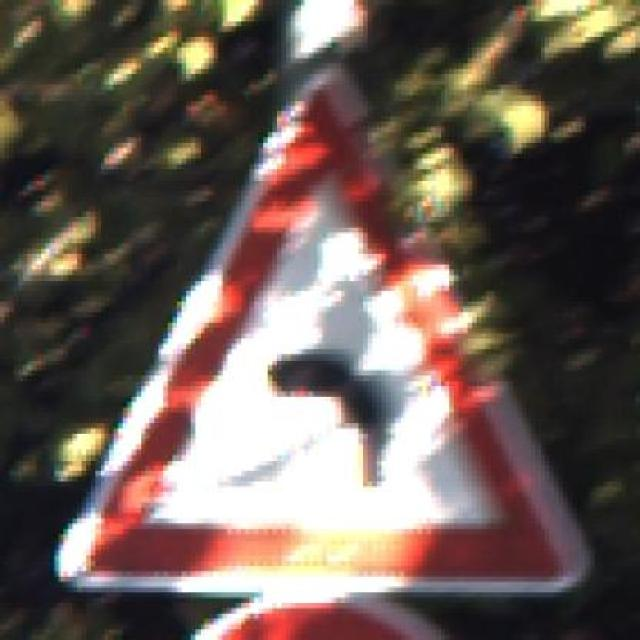Dangerous Left Curve Ahead: (55, 47, 590, 608)
